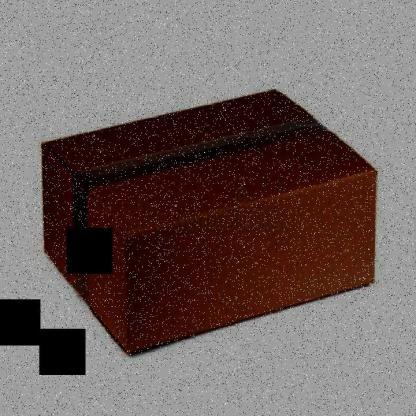-: (35, 77, 398, 362)
